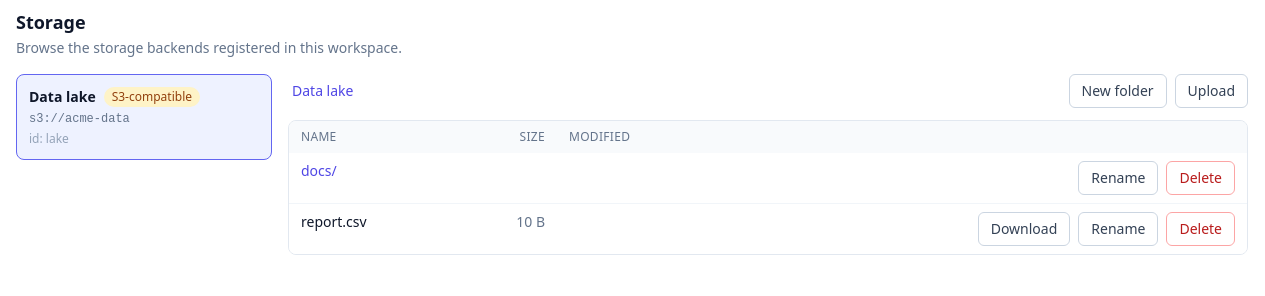
it: deleting › asks first, then deletes a file
Click the button with aria-label "Delete report.csv".
click(1201, 229)  # box [1166,212,1235,246]
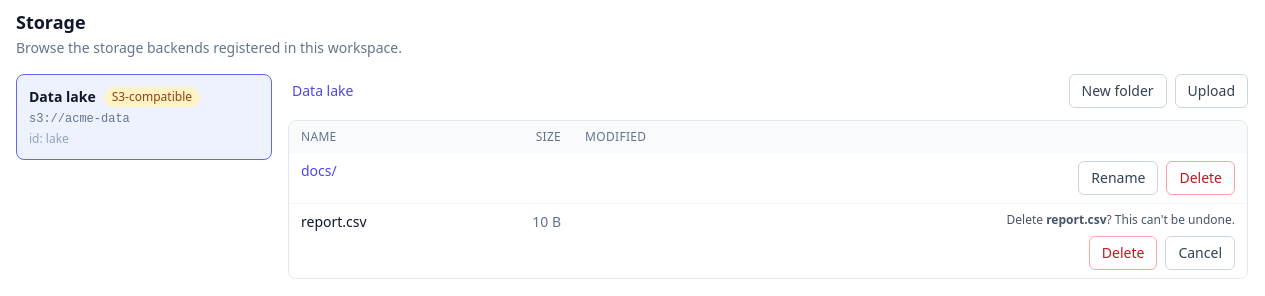
expect the text "Delete report.csv? This can't be undone." is shown: met, box [1006,212,1235,228]
Click the button "Delete" below "? This can't be undone.".
click(1123, 253)  # box [1089,236,1157,270]
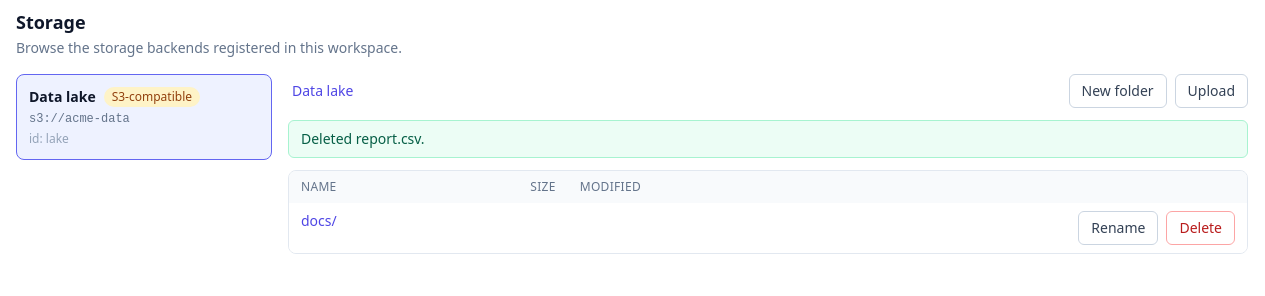
expect the text "Deleted report.csv." is shown: met, box [288,120,1248,158]
